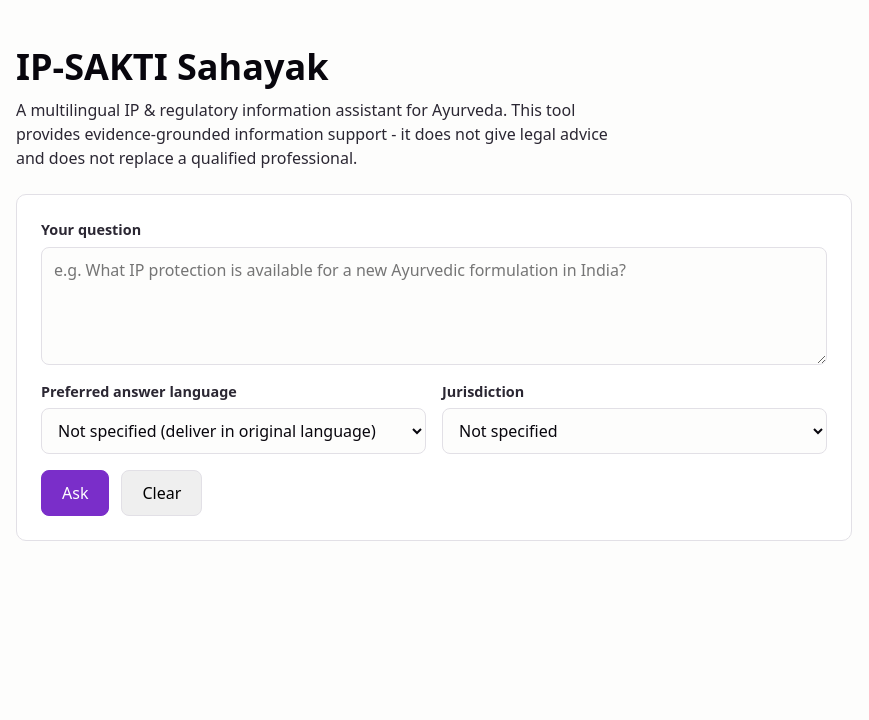
Scenario: query submission › renders an ABSTAIN outcome without a fabricated answer
In the text box labelled "Your question": (434, 306) [41,247,827,365], type "What license do I need?"
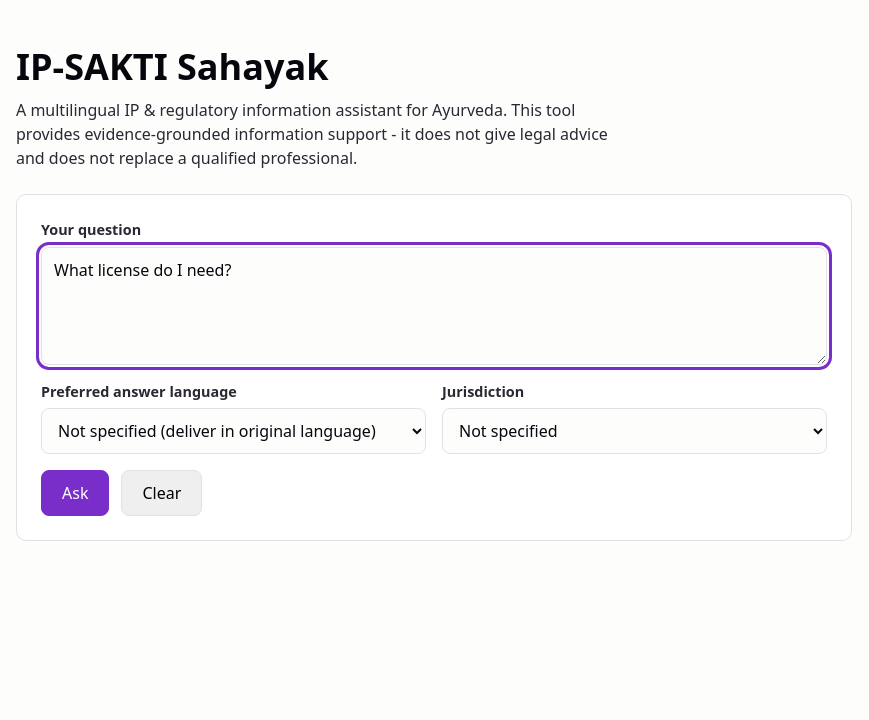
Click the button "Ask": (75, 493) [41,470,109,516]
(page scrolled)
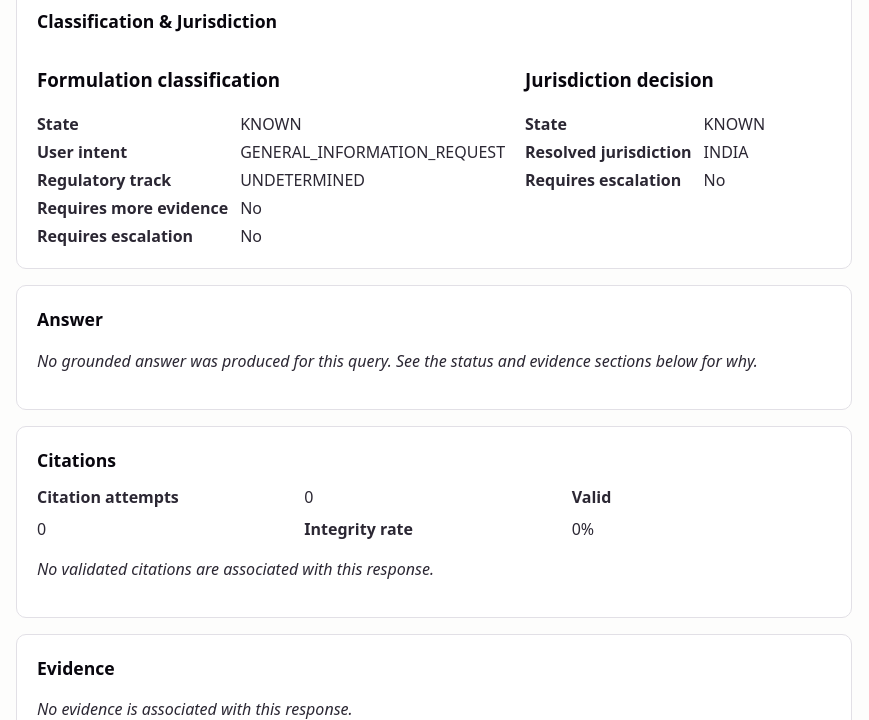
Check: the text "No grounded answer was produced" is shown, box [37,350,758,372]
